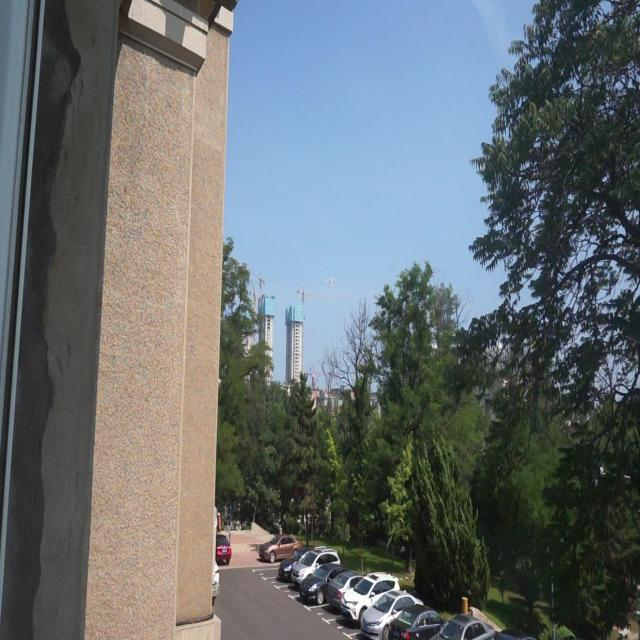UAV: (324, 277, 336, 286)
